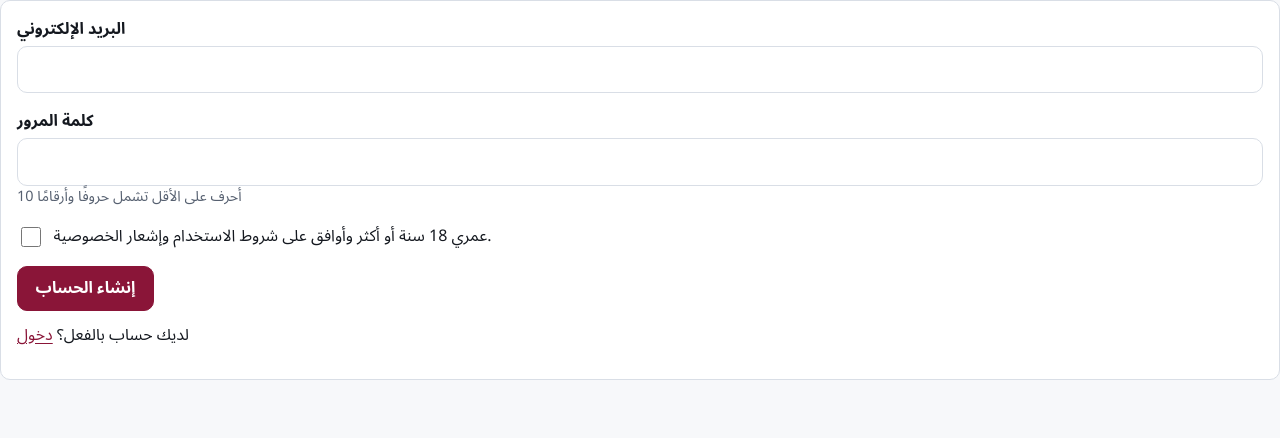
Test: RegisterForm › sends the chosen language and acceptTerms to the API
The width and height of the screenshot is (1280, 438).
Type "a@example.com" into the field labelled "البريد الإلكتروني" at x=640, y=70, box 17,46 -> 1263,93
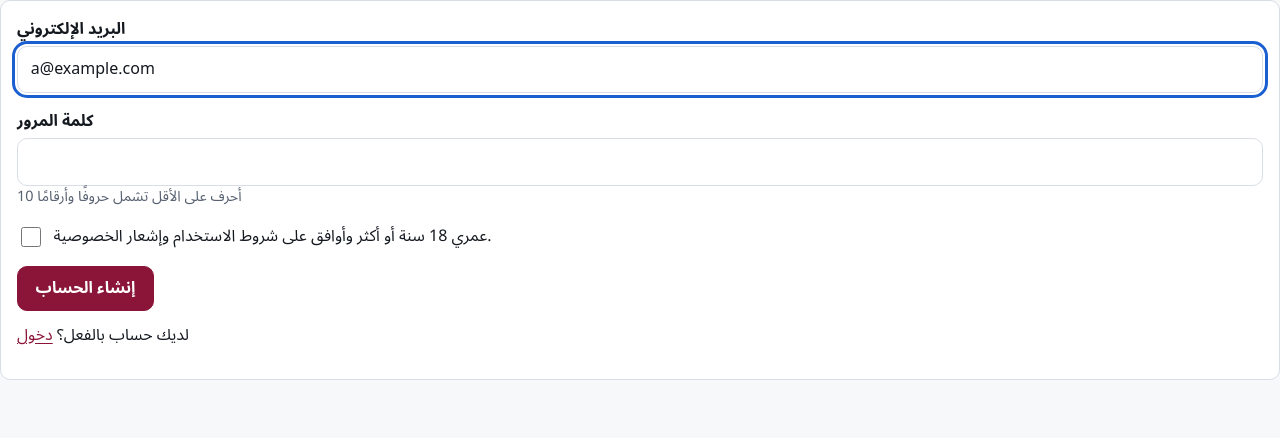
Type "correct-horse-9" into the password field labelled "كلمة المرور" at x=640, y=162, box 17,138 -> 1263,186
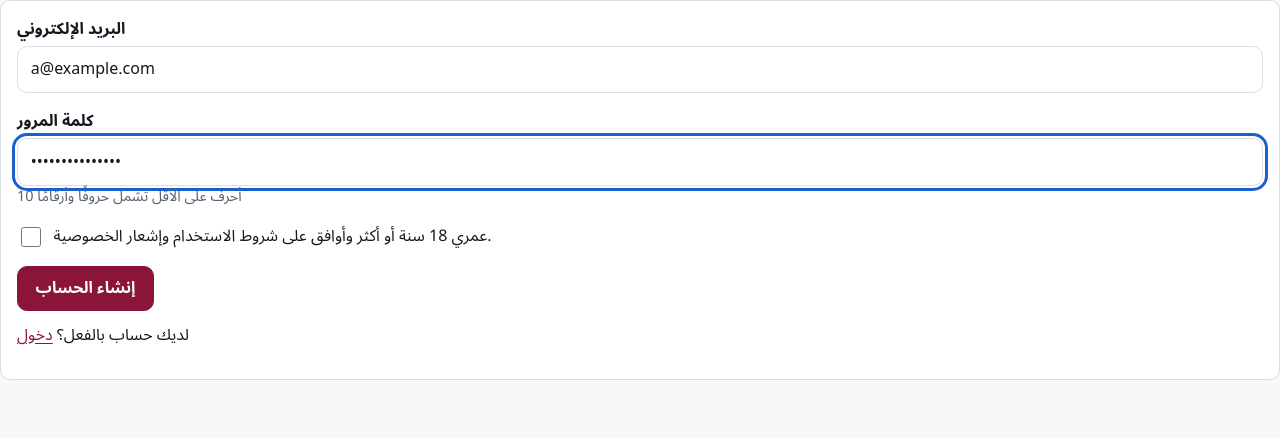
Click the checkbox at x=31, y=237, box 21,227 -> 41,247
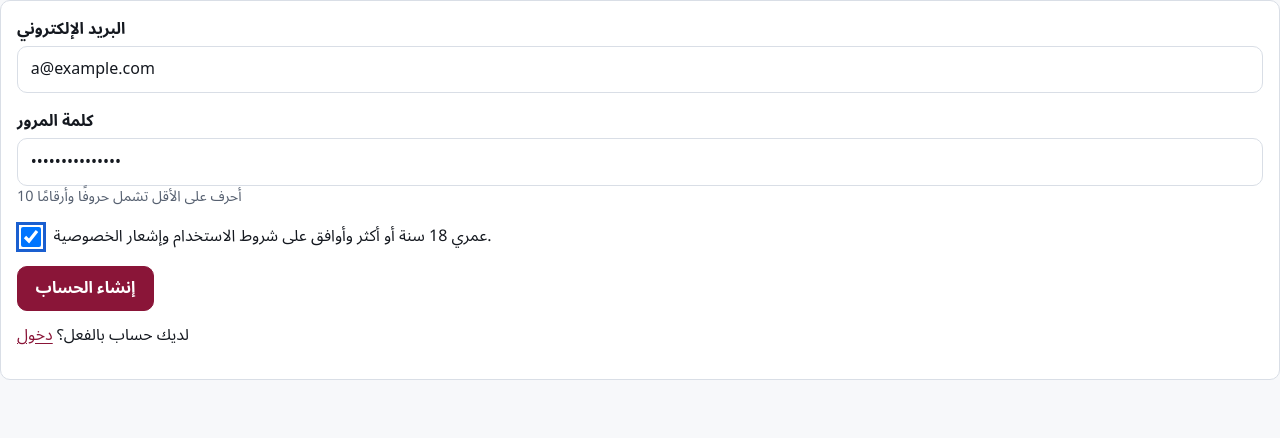
Click the button "إنشاء الحساب" at x=86, y=288, box 17,266 -> 154,311
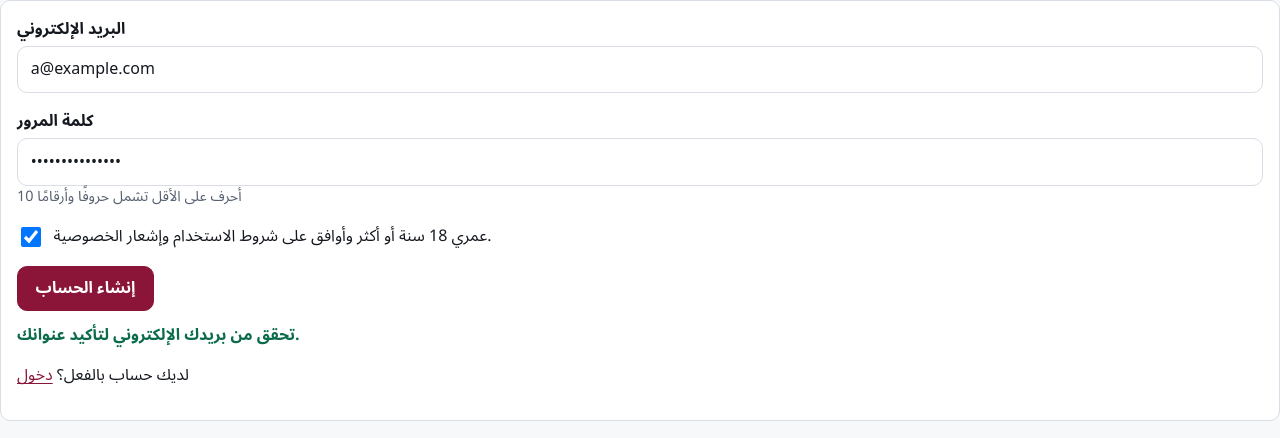
Expected: the text "تحقق من بريدك الإلكتروني لتأكيد عنوانك." is shown, 17,318 -> 300,352
